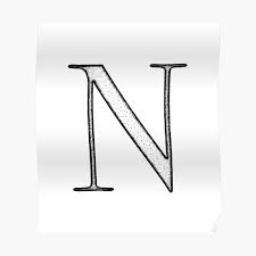n: (60, 50, 204, 216)
